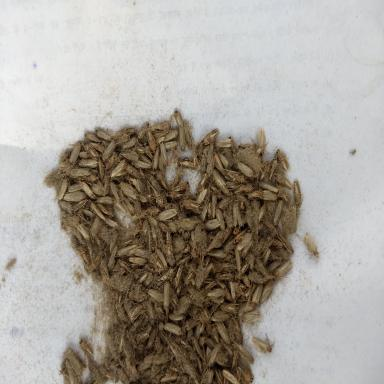pbw: (63, 346, 84, 375), (88, 356, 109, 384), (274, 227, 293, 256), (154, 344, 175, 370), (102, 336, 122, 363), (179, 350, 197, 380), (145, 287, 168, 310), (179, 196, 201, 219), (152, 246, 170, 274), (184, 245, 202, 273), (88, 250, 109, 274), (231, 340, 254, 361), (139, 220, 154, 251), (194, 262, 210, 291), (251, 333, 275, 352), (125, 255, 150, 273), (112, 265, 127, 295), (133, 206, 158, 224), (208, 174, 228, 196), (237, 158, 257, 180), (152, 170, 170, 194), (173, 293, 191, 317), (256, 129, 271, 157), (144, 324, 159, 352), (234, 231, 254, 251), (145, 176, 161, 201), (170, 235, 189, 256), (209, 228, 228, 249), (225, 274, 243, 296), (162, 280, 173, 316), (58, 356, 72, 384), (274, 183, 291, 206), (117, 241, 136, 261), (194, 314, 213, 334), (57, 196, 78, 214), (236, 361, 257, 379), (217, 319, 231, 346), (275, 149, 290, 174), (68, 140, 82, 166), (222, 168, 248, 182), (251, 199, 260, 239), (259, 281, 275, 303), (102, 138, 118, 160), (62, 190, 87, 204), (214, 205, 226, 234), (118, 323, 130, 352), (125, 357, 140, 380), (222, 365, 240, 384), (201, 128, 220, 146), (293, 180, 303, 214), (127, 302, 144, 322), (204, 286, 230, 299), (154, 206, 180, 219), (273, 198, 286, 224), (172, 262, 184, 290), (232, 202, 244, 230), (241, 310, 262, 326), (189, 335, 203, 359), (215, 150, 231, 171), (168, 220, 196, 232), (260, 234, 274, 258), (210, 346, 225, 368), (118, 182, 138, 198), (249, 284, 264, 305), (257, 249, 272, 270), (108, 232, 120, 258), (182, 122, 194, 148), (99, 257, 110, 285), (255, 203, 269, 225), (230, 181, 252, 195), (107, 244, 118, 272), (120, 134, 138, 151), (238, 140, 256, 157), (140, 352, 157, 370), (88, 200, 105, 218), (156, 268, 173, 286), (263, 218, 279, 237), (96, 153, 106, 183), (130, 314, 145, 334), (195, 172, 209, 193), (162, 321, 183, 335), (274, 262, 291, 279), (76, 182, 94, 198), (237, 300, 255, 316), (269, 155, 280, 181), (88, 181, 107, 196), (81, 338, 96, 357), (120, 196, 134, 216), (179, 157, 199, 171), (166, 231, 174, 266), (224, 176, 244, 190), (83, 140, 96, 161), (77, 222, 90, 243), (116, 367, 132, 384), (200, 367, 216, 384), (66, 168, 88, 180), (191, 220, 202, 244), (101, 168, 111, 194), (210, 191, 220, 217), (96, 192, 116, 205), (92, 213, 102, 239), (258, 162, 271, 182), (154, 121, 174, 134), (255, 258, 268, 278), (105, 150, 118, 170), (132, 143, 148, 159), (232, 267, 248, 283), (266, 258, 283, 273), (209, 299, 224, 316), (162, 370, 180, 384), (114, 301, 126, 322), (259, 188, 277, 202), (55, 180, 67, 201), (169, 172, 183, 190), (233, 316, 242, 344), (232, 252, 243, 274), (201, 197, 212, 219), (104, 332, 115, 354), (274, 174, 290, 189), (96, 126, 112, 141), (142, 140, 154, 160), (79, 246, 89, 270), (233, 228, 248, 244), (186, 315, 199, 333), (260, 180, 278, 193), (62, 215, 80, 228), (214, 135, 235, 146), (174, 110, 184, 133), (156, 225, 166, 248), (246, 210, 256, 233), (132, 159, 151, 171), (160, 143, 169, 168), (117, 259, 132, 274), (72, 198, 88, 212), (249, 271, 266, 284), (220, 303, 242, 313), (168, 310, 186, 322), (178, 126, 186, 153), (241, 239, 253, 257), (184, 267, 196, 285), (206, 154, 215, 178), (219, 262, 237, 274), (217, 196, 232, 210), (290, 206, 297, 236), (210, 323, 220, 344), (123, 148, 139, 161), (125, 164, 141, 177), (130, 210, 146, 223), (227, 316, 235, 342), (170, 146, 179, 169), (148, 128, 156, 153), (192, 146, 200, 171), (228, 134, 238, 154), (254, 237, 264, 257), (151, 147, 160, 169), (215, 271, 233, 282), (229, 349, 238, 371), (202, 219, 217, 232), (235, 194, 250, 207), (176, 255, 192, 267), (173, 180, 189, 192), (79, 156, 98, 166), (133, 218, 143, 237), (120, 360, 131, 377), (80, 206, 94, 219), (243, 190, 263, 199), (139, 122, 149, 140), (114, 199, 126, 214), (268, 251, 286, 261), (110, 182, 119, 202), (206, 249, 226, 258), (219, 300, 241, 308), (58, 163, 80, 171), (142, 272, 153, 288), (144, 206, 161, 216), (222, 226, 232, 243), (165, 130, 179, 142), (153, 130, 169, 140), (88, 142, 104, 152), (129, 330, 137, 350), (200, 203, 208, 223), (84, 134, 100, 144), (157, 219, 169, 232), (139, 153, 152, 165), (96, 204, 109, 216), (226, 206, 233, 228), (116, 134, 130, 145), (98, 367, 112, 378), (5, 257, 16, 271), (164, 141, 181, 150), (140, 218, 148, 237), (68, 182, 83, 192), (229, 281, 236, 302), (206, 143, 213, 164), (137, 272, 149, 284), (272, 238, 285, 249), (104, 218, 118, 228), (214, 310, 231, 318), (148, 300, 154, 320), (96, 178, 104, 192), (198, 140, 204, 158), (158, 153, 164, 171), (201, 153, 206, 174), (105, 131, 118, 138), (155, 136, 165, 145), (198, 357, 203, 375), (116, 170, 127, 176), (79, 152, 90, 157)
